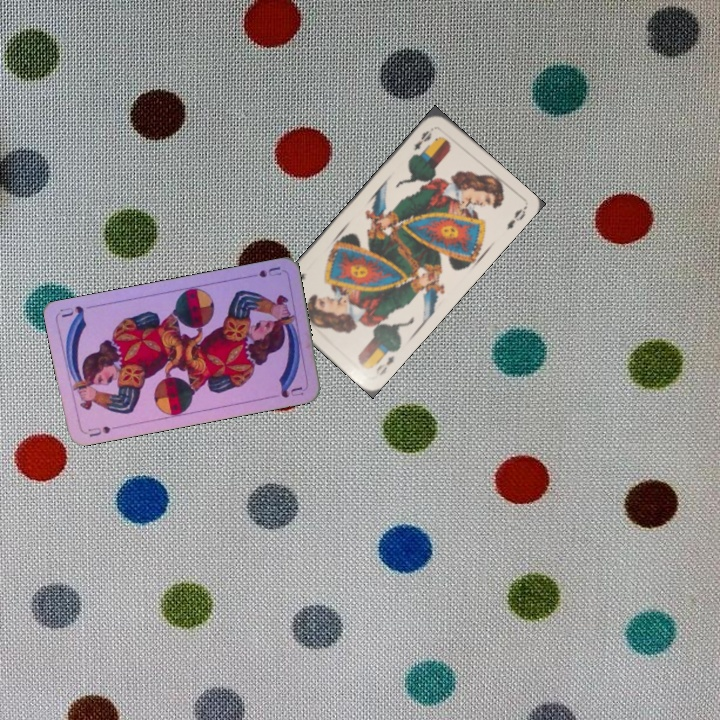EO: (372, 351, 397, 379), (410, 126, 434, 153)
SU: (243, 262, 284, 280), (84, 422, 113, 439)
